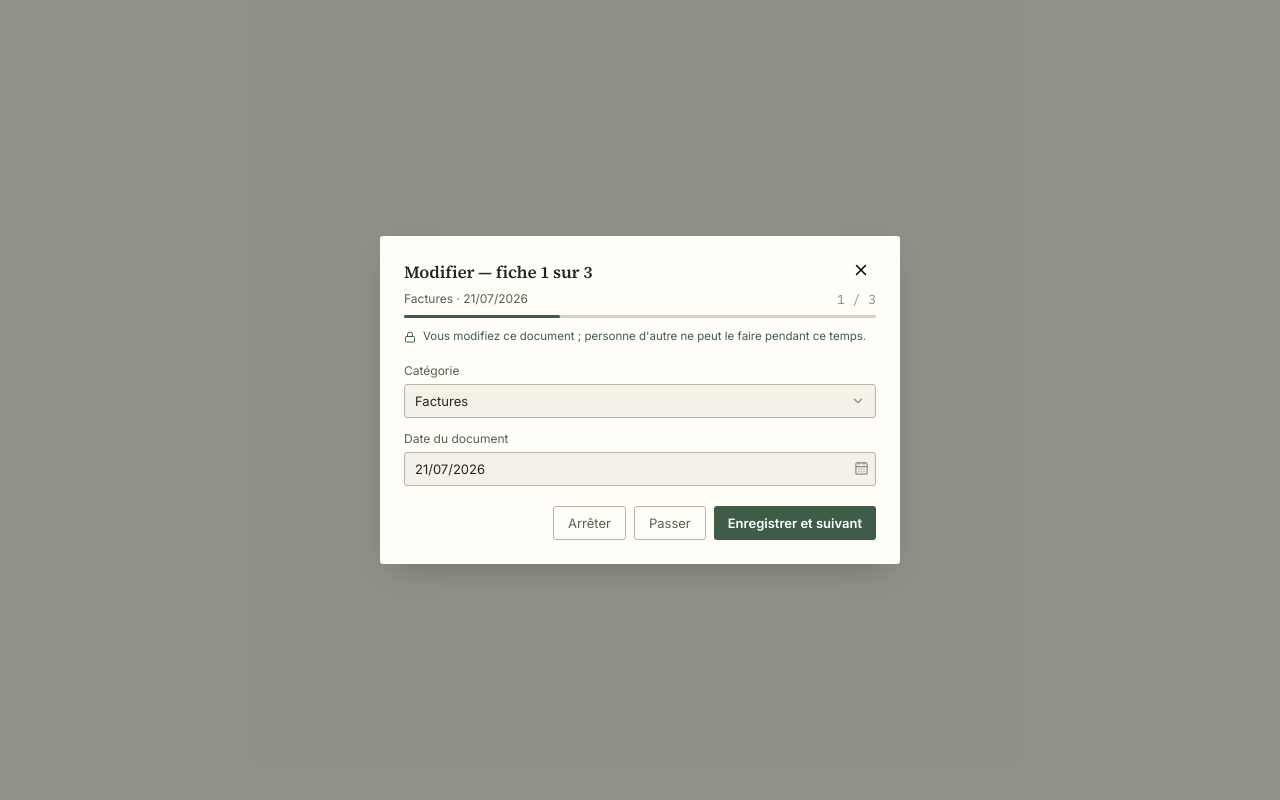
Test: modification en série › enchaîne sur la suivante après enregistrement
The image size is (1280, 800).
Check: the heading "Modifier — fiche 1 sur 3" is shown, box [404, 260, 592, 286]
Click the button "Enregistrer et suivant": (795, 523) [714, 506, 876, 540]
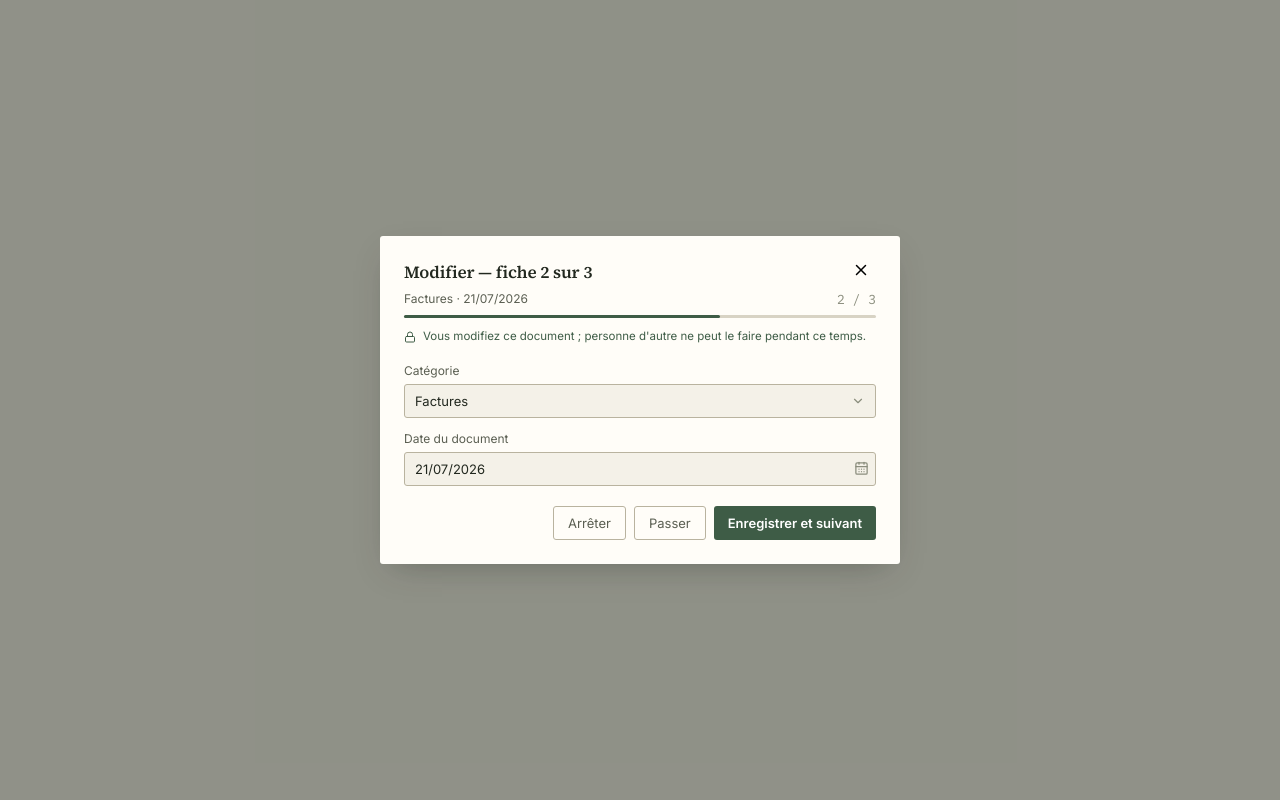
Check: the heading "Modifier — fiche 2 sur 3" is shown, box [404, 260, 592, 286]
